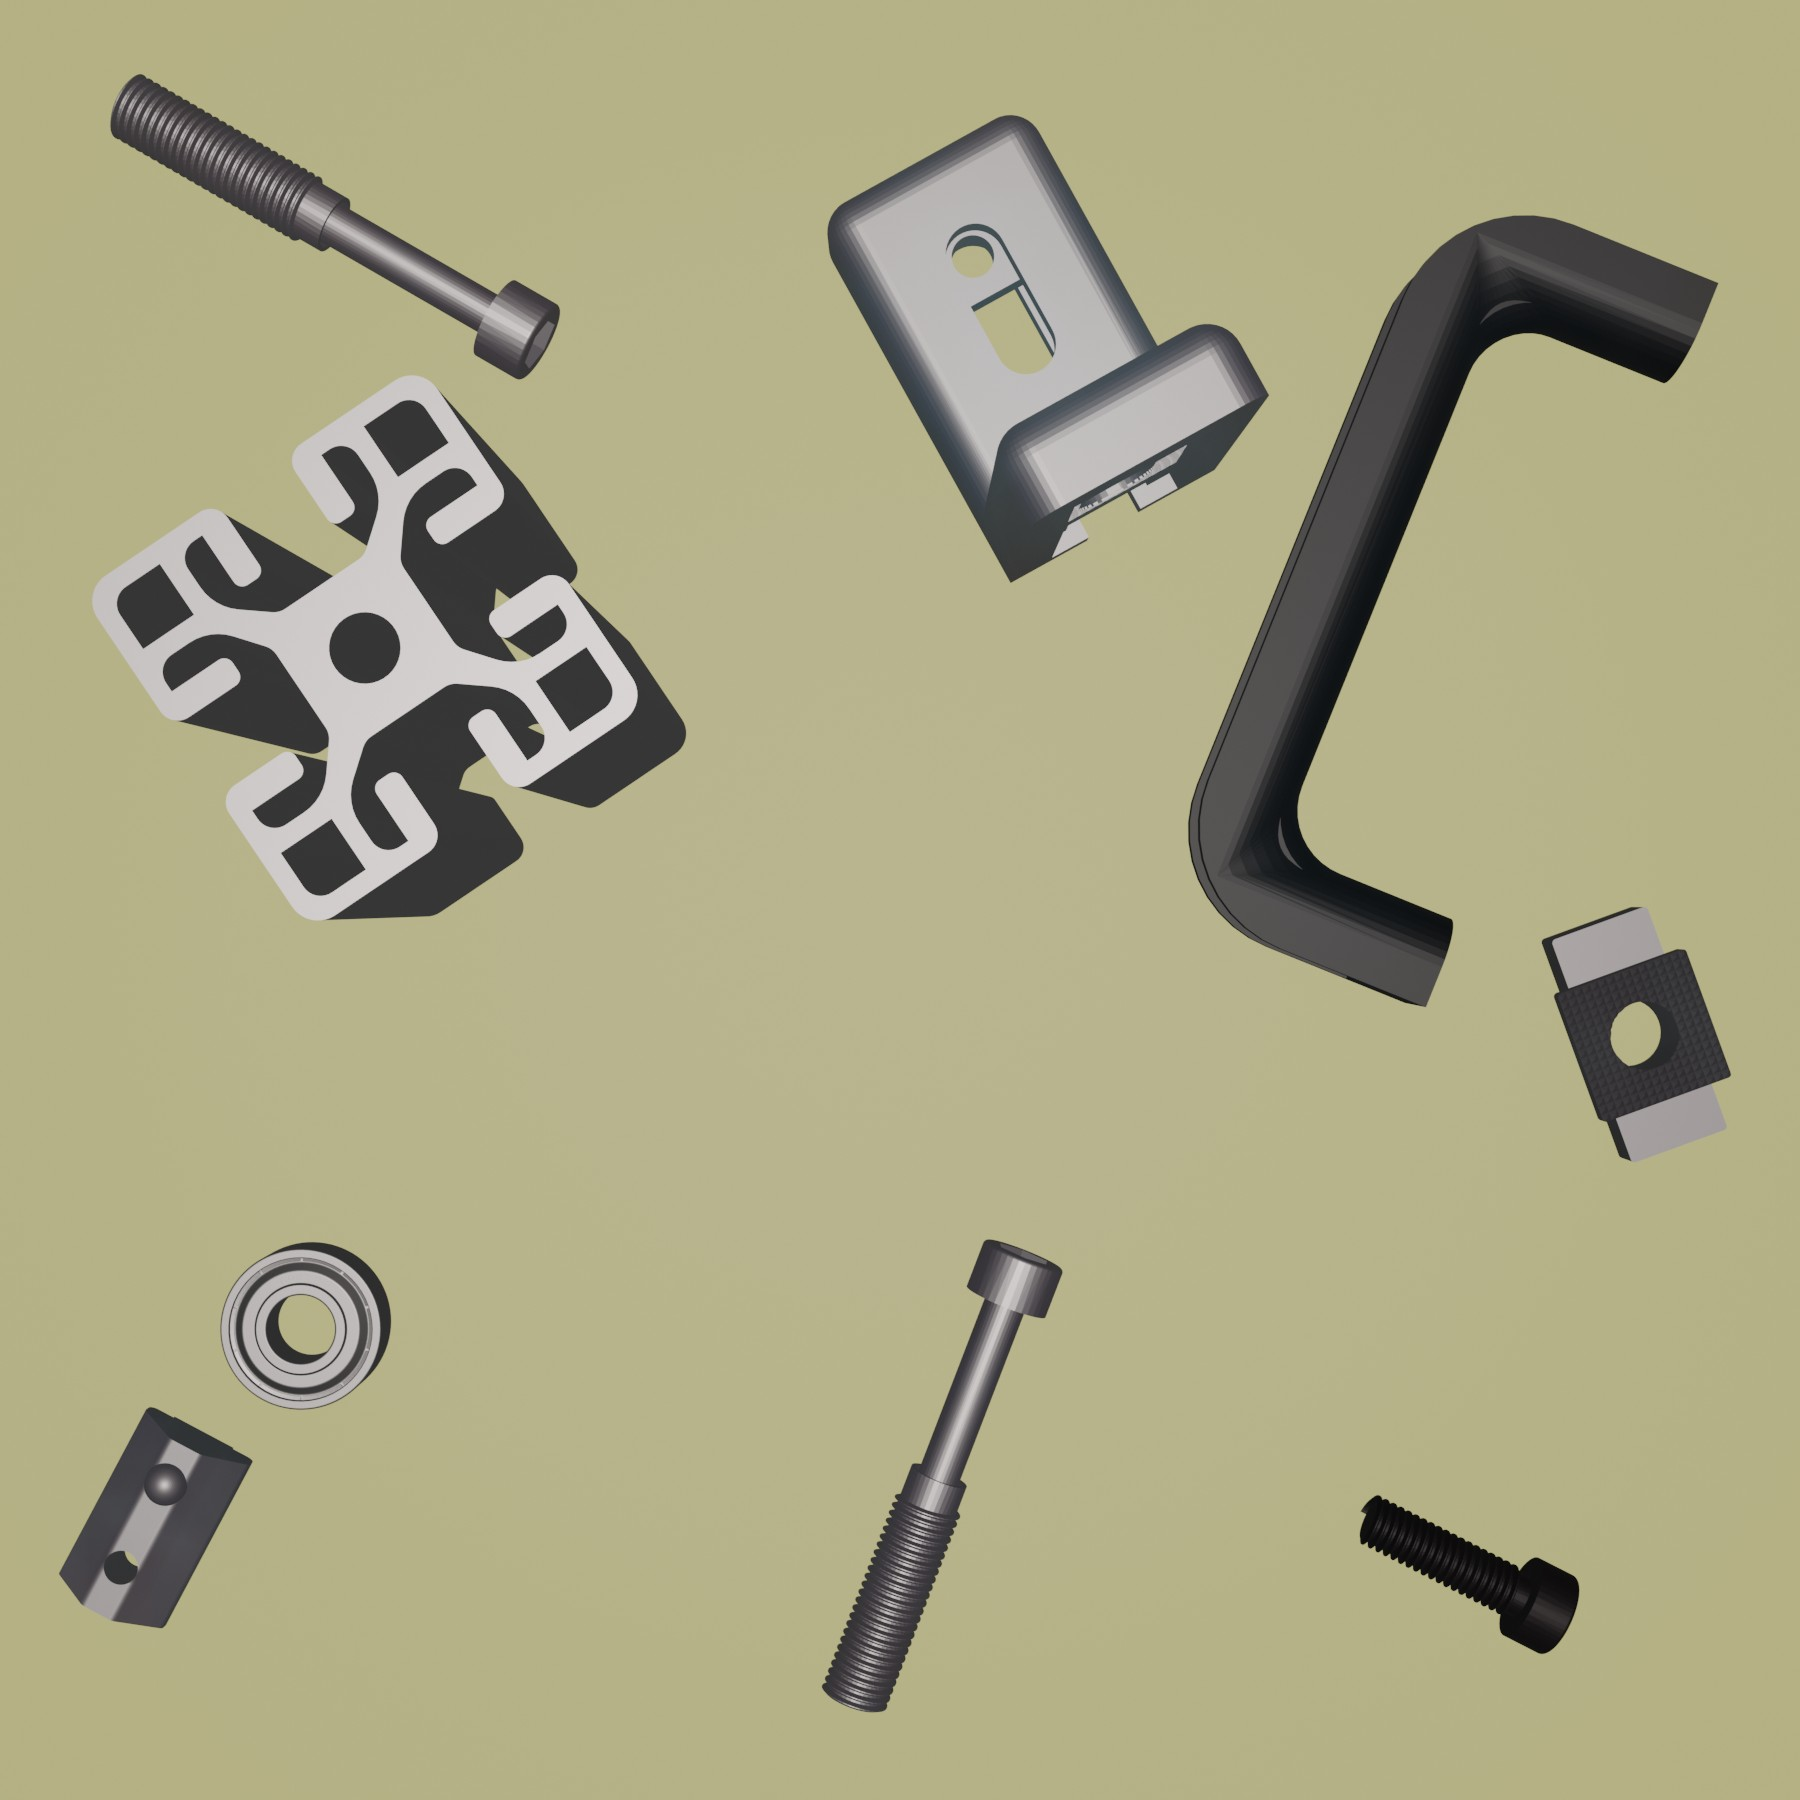Aluminium Extension: (87, 373, 687, 925)
Ball Bearing: (216, 1240, 392, 1411)
Multiwinkel: (824, 112, 1269, 587)
Pull Handle: (1187, 211, 1719, 1009)
Shoulder Socket Head Cap Screw: (105, 73, 562, 381), (819, 1235, 1065, 1714)
Socket Head Cap Screw: (1352, 1488, 1581, 1655)
T Nut Square: (1538, 902, 1732, 1162)
T Spring Nut: (58, 1404, 254, 1630)
